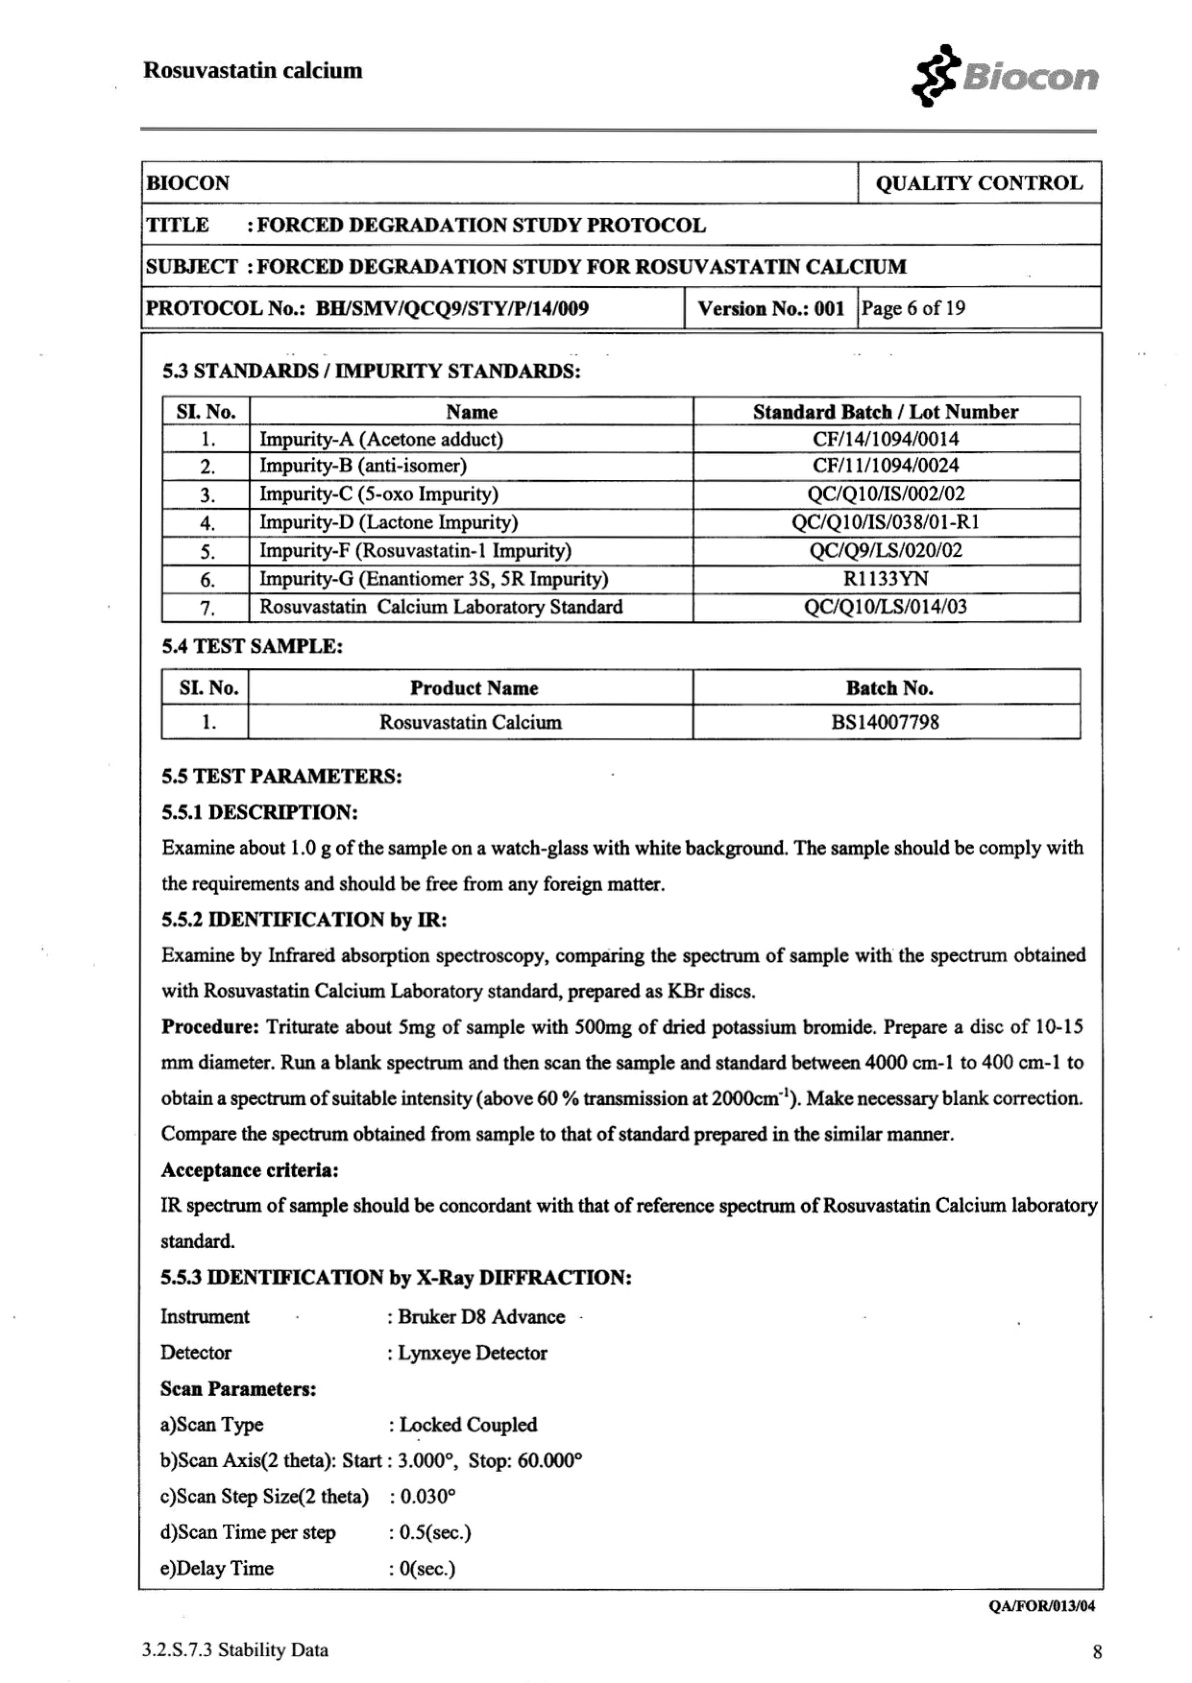full_lined: (160, 395, 1084, 624), (160, 665, 1082, 740)
merged_cells: (141, 159, 1103, 330)
nolines: (155, 1296, 584, 1584)
